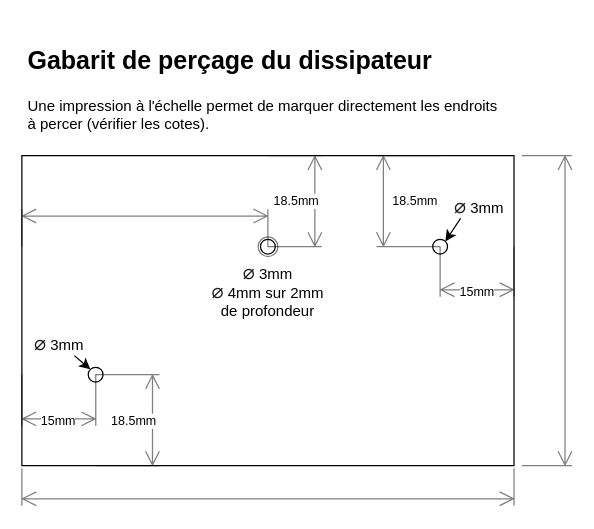
This 594x529 diagram has some shape labels left out. The shapes that lost their labels are listed below. From the top down, each one's box as (x1, y1, x2, y2) in pixels, then its label:
(21, 208, 268, 247): 50mm
(521, 154, 572, 466): 63mm
(21, 467, 514, 506): 100mm
